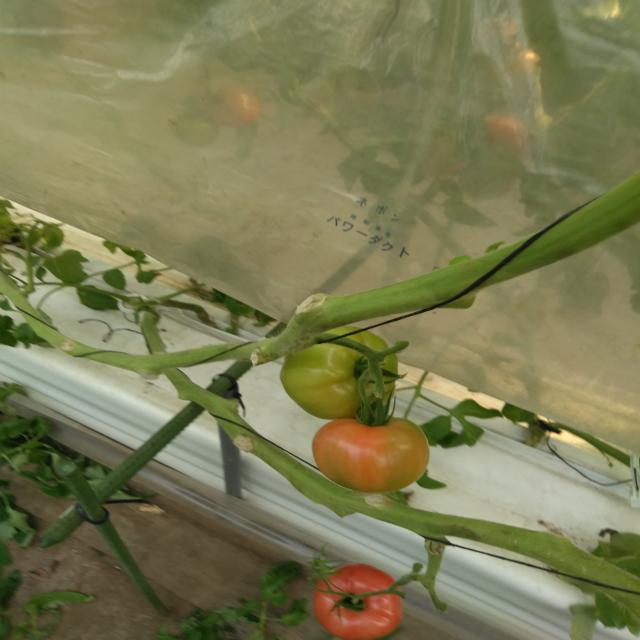n-half-riped: (312, 415, 431, 493)
n-riped: (314, 563, 402, 640)
n-unriped: (281, 326, 398, 419)
